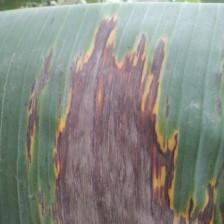sigatoka: (0, 2, 224, 224)
